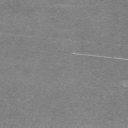finishing roll printing: (71, 52, 128, 61)
